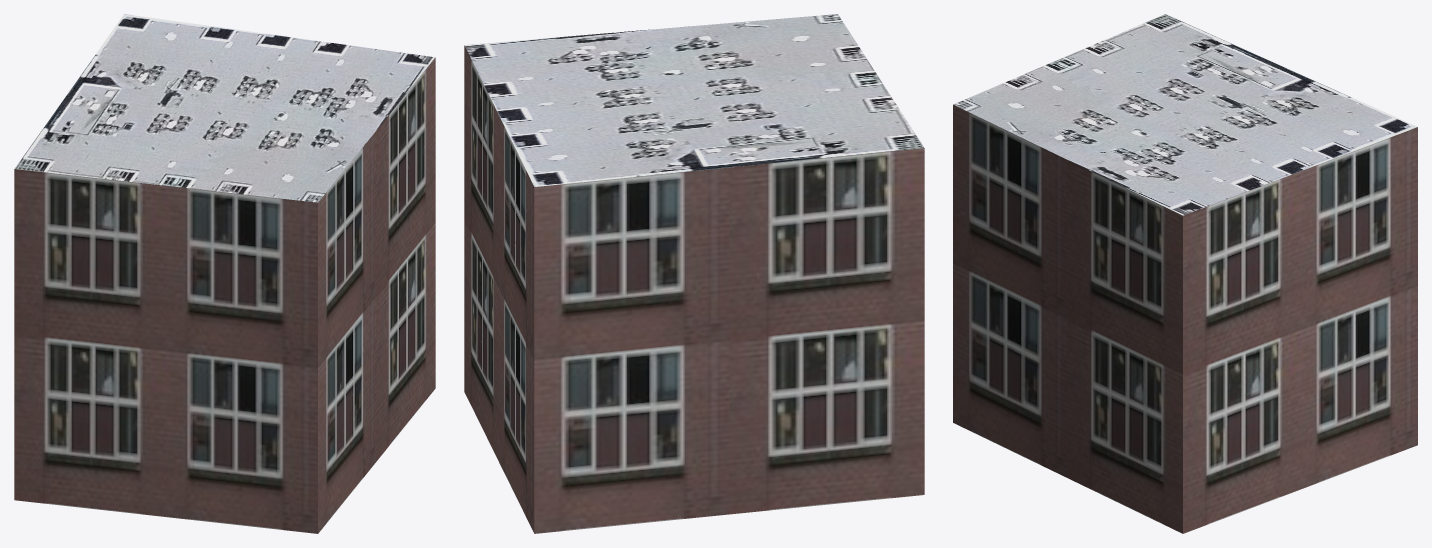
File: ResTex__25.fbx
3 renders of one model, left to right at view 1: azimuth 30°, elevation 25°; view 2: azimuth 150°, elevation 25°; view 3: azimuth 270°, elevation 25°, orthographic. The views are drawn at different scales.
Visible parts, largest first — view 1: CityEngineMaterial_12_m, CityEngineMaterial_m; view 2: CityEngineMaterial_12_m, CityEngineMaterial_m; view 3: CityEngineMaterial_12_m, CityEngineMaterial_m.
Boxes of the visible parts, x1,y1,x2,y2 form: CityEngineMaterial_12_m: (14, 57, 435, 533); CityEngineMaterial_m: (14, 14, 435, 202); CityEngineMaterial_12_m: (464, 45, 924, 533); CityEngineMaterial_m: (464, 14, 924, 186); CityEngineMaterial_12_m: (953, 104, 1417, 533); CityEngineMaterial_m: (953, 14, 1417, 215).
Bounding box in the file's own units: 8.16 × 6 × 7.94.
Materials: 2 (2 with a texture image).
